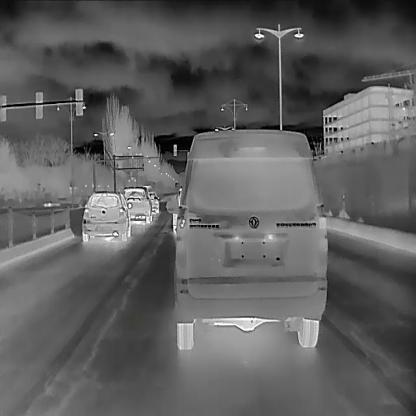car: (165, 127, 329, 349), (81, 190, 131, 240), (121, 185, 153, 222), (147, 190, 160, 213)
